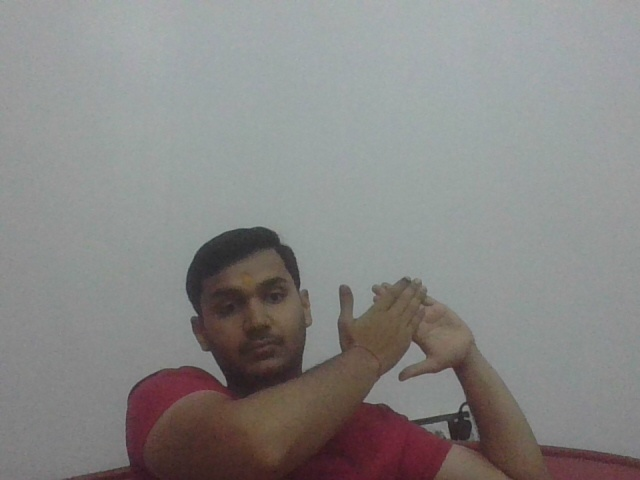H: (334, 277, 475, 383)
